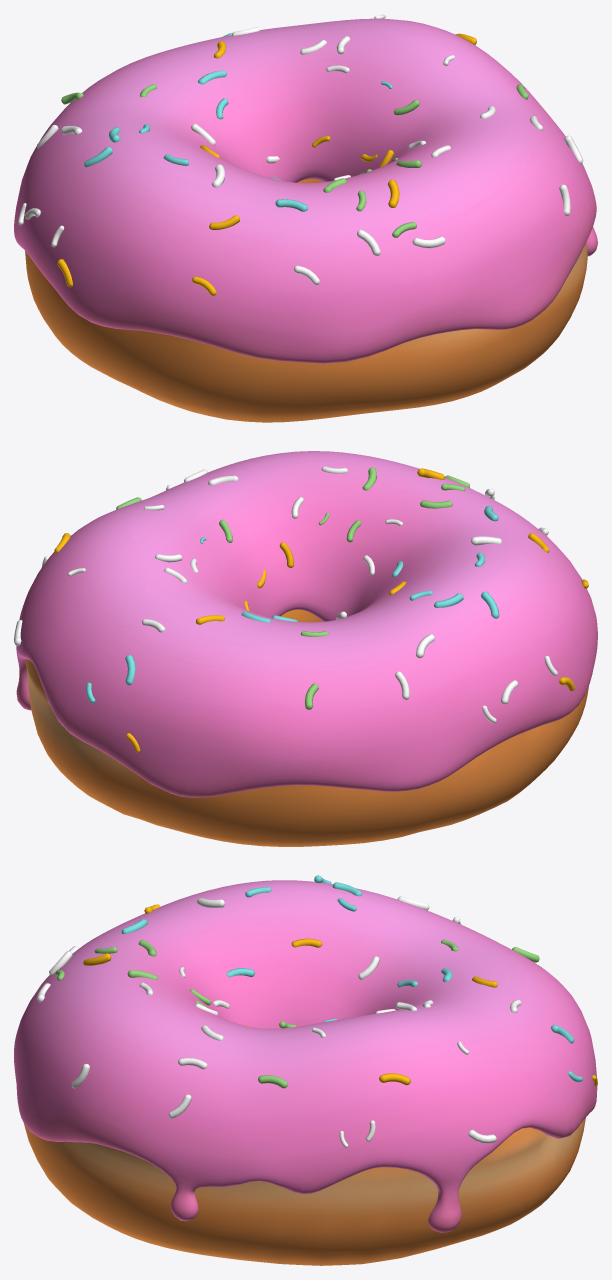
File: ponchik.glb
3 renders of one model, top to bottom at view 1: azimuth 30°, elevation 25°; view 2: azimuth 150°, elevation 25°; view 3: azimuth 270°, elevation 25°, orthographic. The views are drawn at different scales.
Visible parts, largest first — view 1: ICING, donut, Sprinkles 4, Sprinkles 1, Sprinkles 3, Sprinkles 2; view 2: ICING, donut, Sprinkles 4, Sprinkles 3, Sprinkles 2, Sprinkles 1; view 3: ICING, donut, Sprinkles 4, Sprinkles 3, Sprinkles 2, Sprinkles 1.
Boxes of the visible parts, <box> form: ICING: <box>14,18,597,363</box>; donut: <box>25,179,587,422</box>; Sprinkles 4: <box>18,14,583,284</box>; Sprinkles 1: <box>57,33,476,295</box>; Sprinkles 3: <box>84,33,392,211</box>; Sprinkles 2: <box>61,84,528,237</box>; ICING: <box>16,451,597,797</box>; donut: <box>25,609,588,846</box>; Sprinkles 4: <box>14,466,557,723</box>; Sprinkles 3: <box>86,505,499,703</box>; Sprinkles 2: <box>116,467,469,709</box>; Sprinkles 1: <box>54,468,588,752</box>; ICING: <box>14,880,597,1232</box>; donut: <box>24,1117,585,1265</box>; Sprinkles 4: <box>37,896,521,1147</box>; Sprinkles 3: <box>121,875,582,1082</box>; Sprinkles 2: <box>55,939,539,1088</box>; Sprinkles 1: <box>83,904,597,1086</box>.
Size of the model in its own units: 0.1502 by 0.0672 by 0.1559.
Materials: 6 (2 with a texture image).
